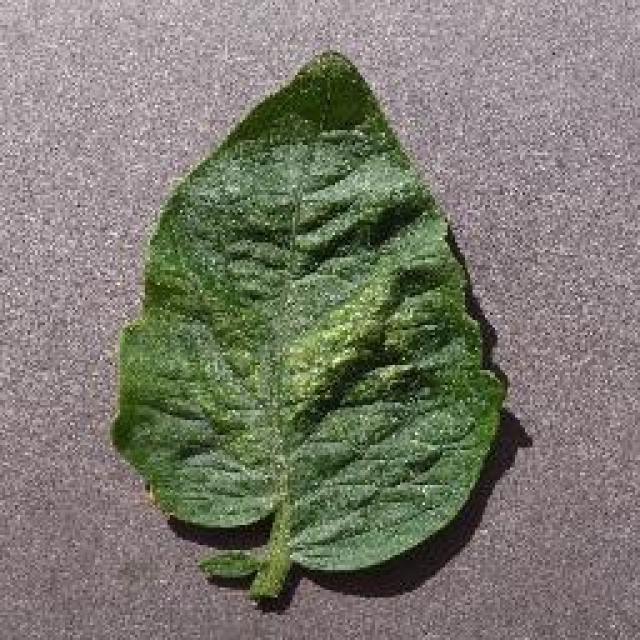Tom_Spider_mites Two-spotted_spider_mite: (200, 156, 424, 492)
